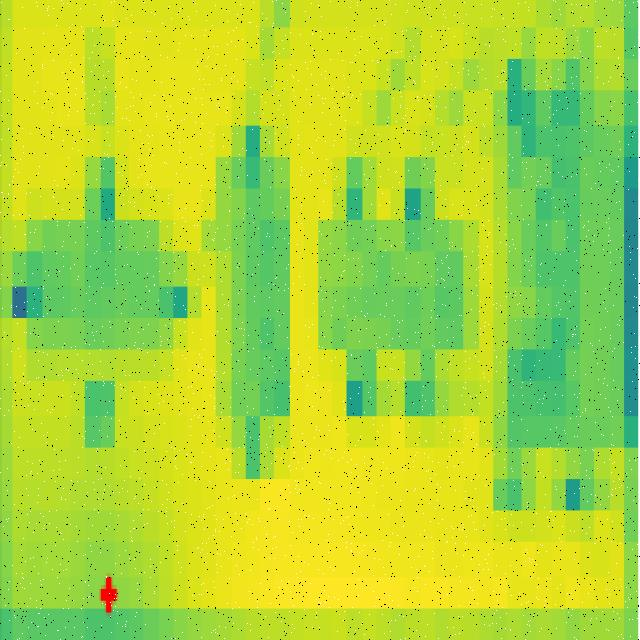Concrete: (27, 221, 162, 376)
Glass: (494, 92, 636, 477)
Metal: (216, 156, 288, 415)
Wood: (317, 221, 478, 348)
